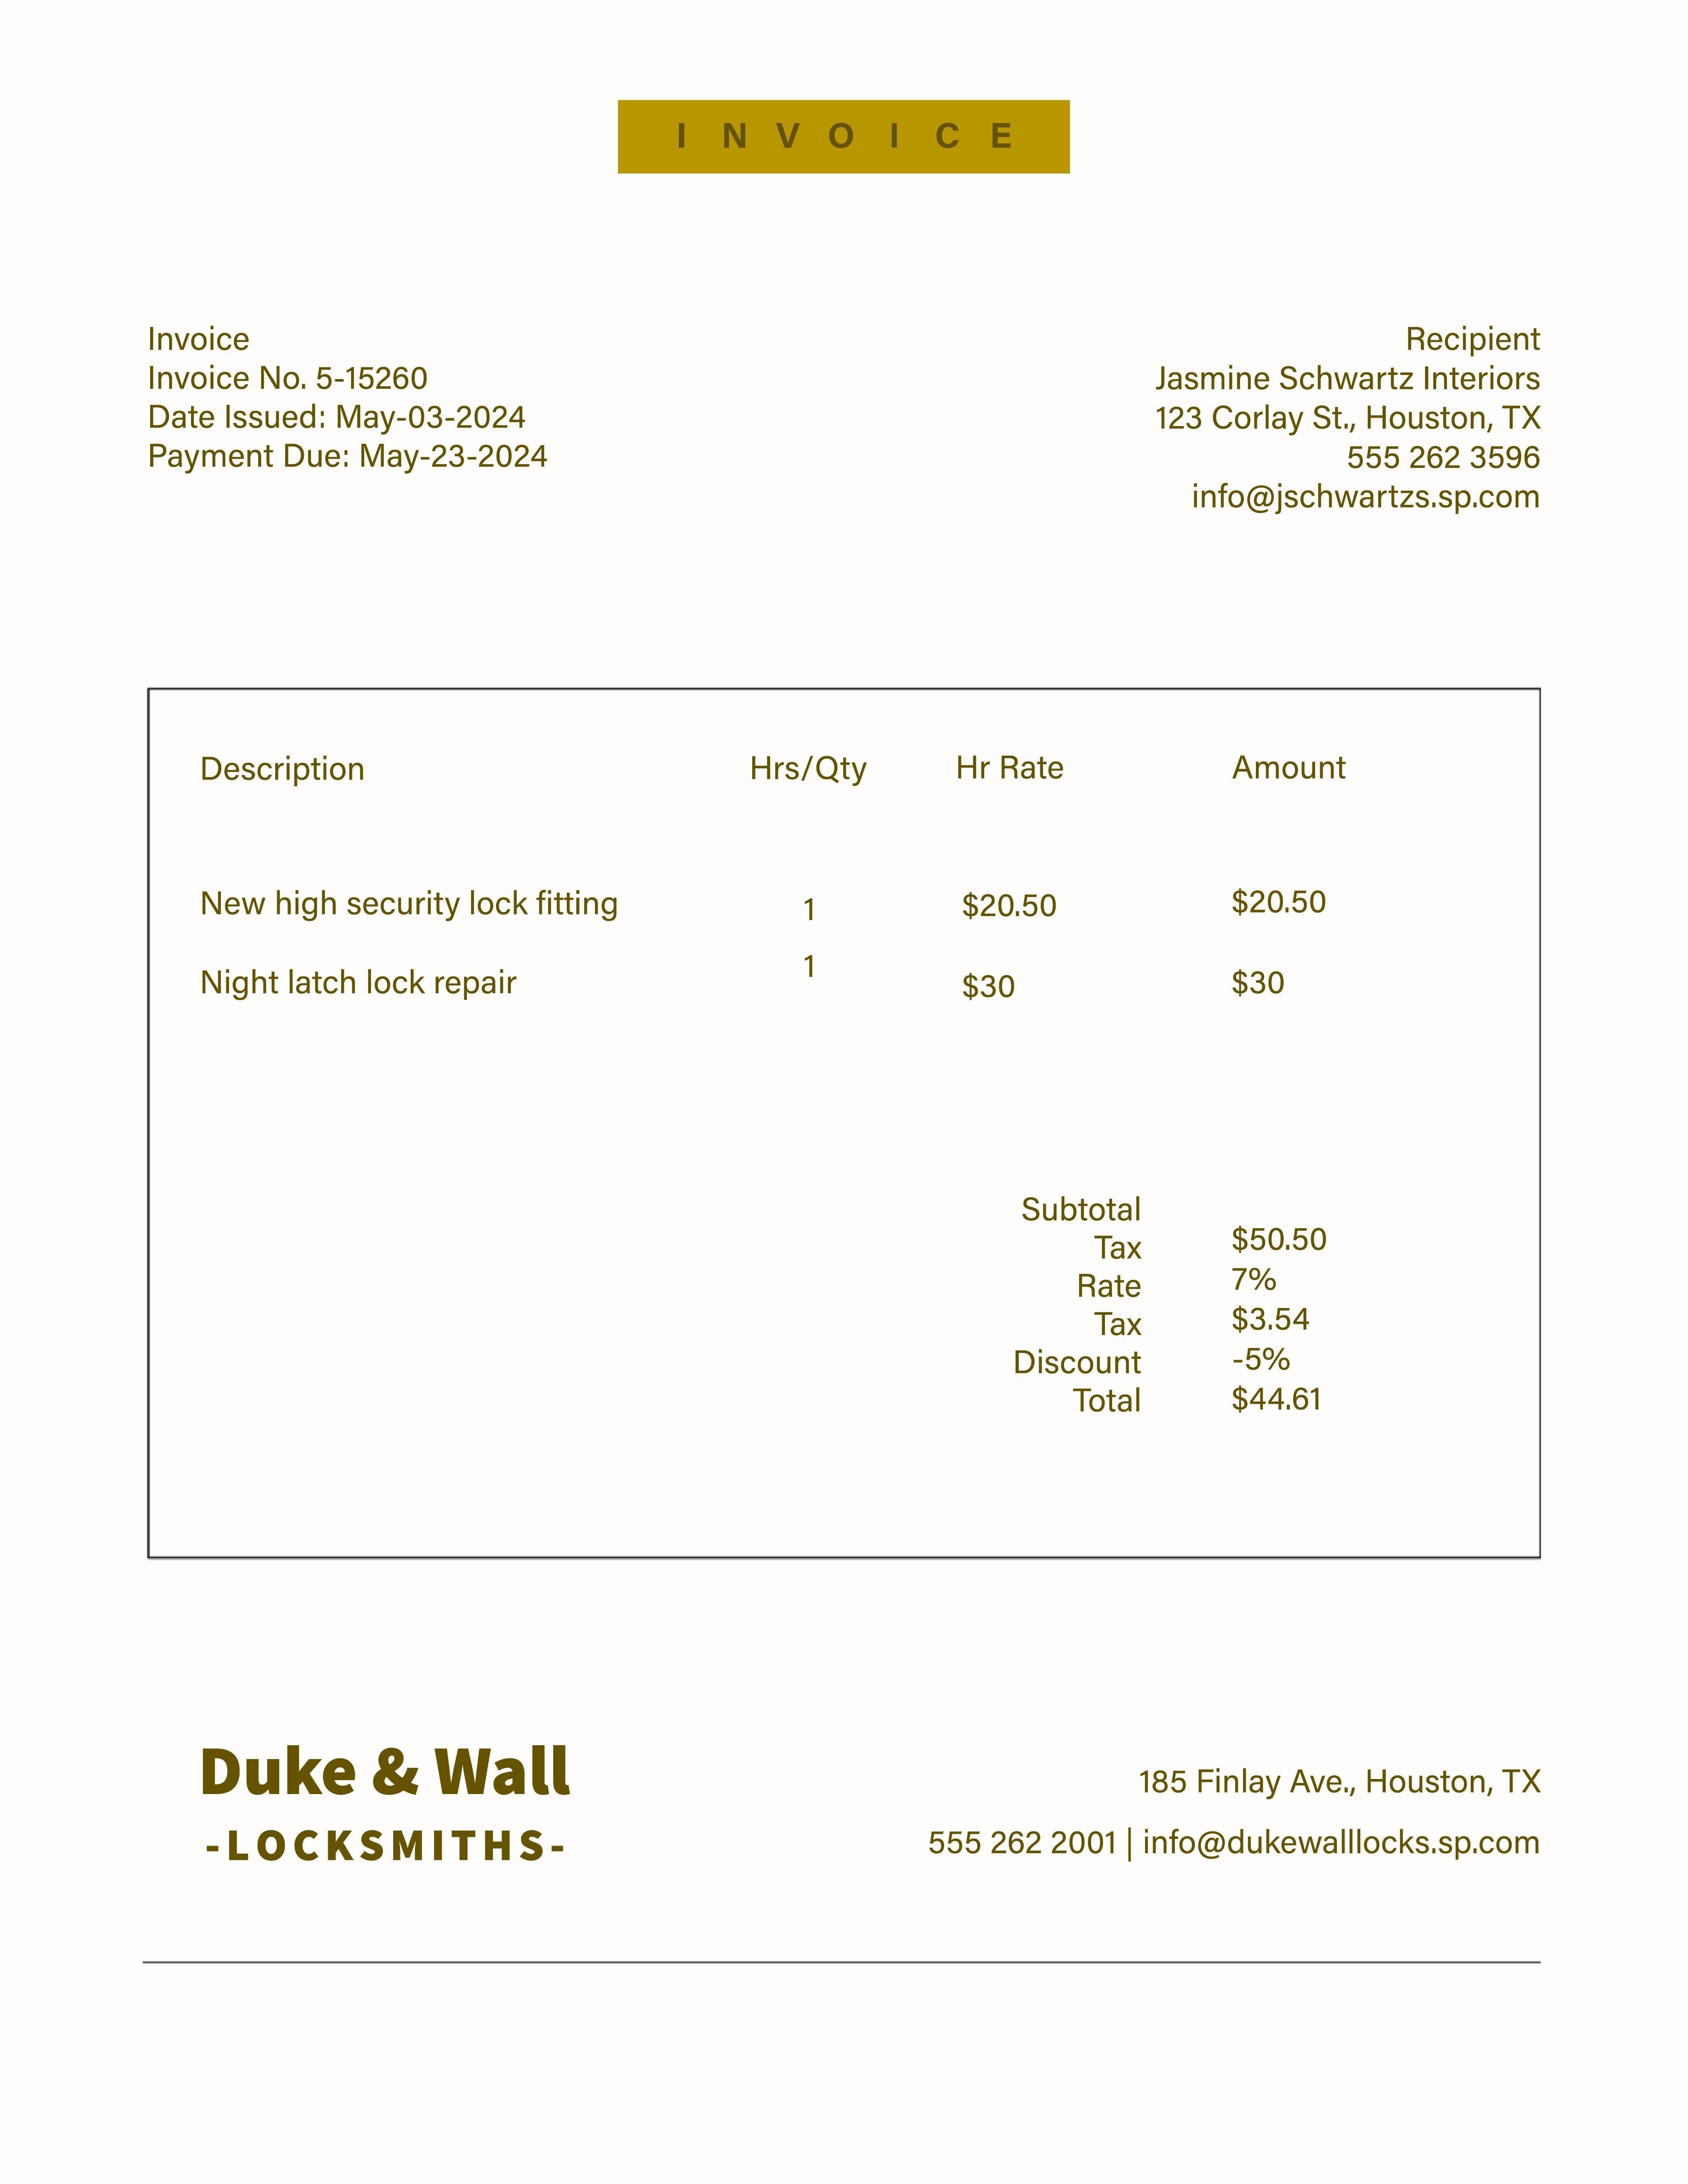ROI: (193, 750, 1385, 1018), (158, 1711, 1564, 1886), (1009, 1188, 1365, 1436), (1138, 308, 1557, 519), (138, 314, 557, 489)
